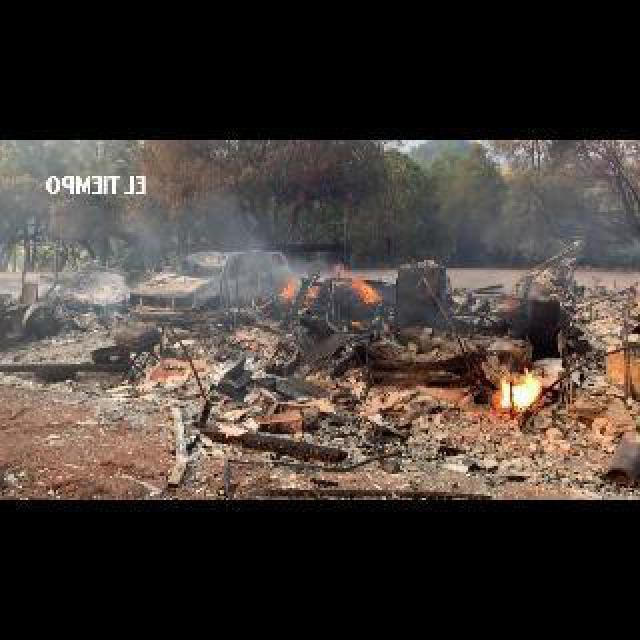Fire: (496, 370, 542, 406), (358, 282, 380, 304), (282, 278, 292, 294), (348, 316, 364, 324)
